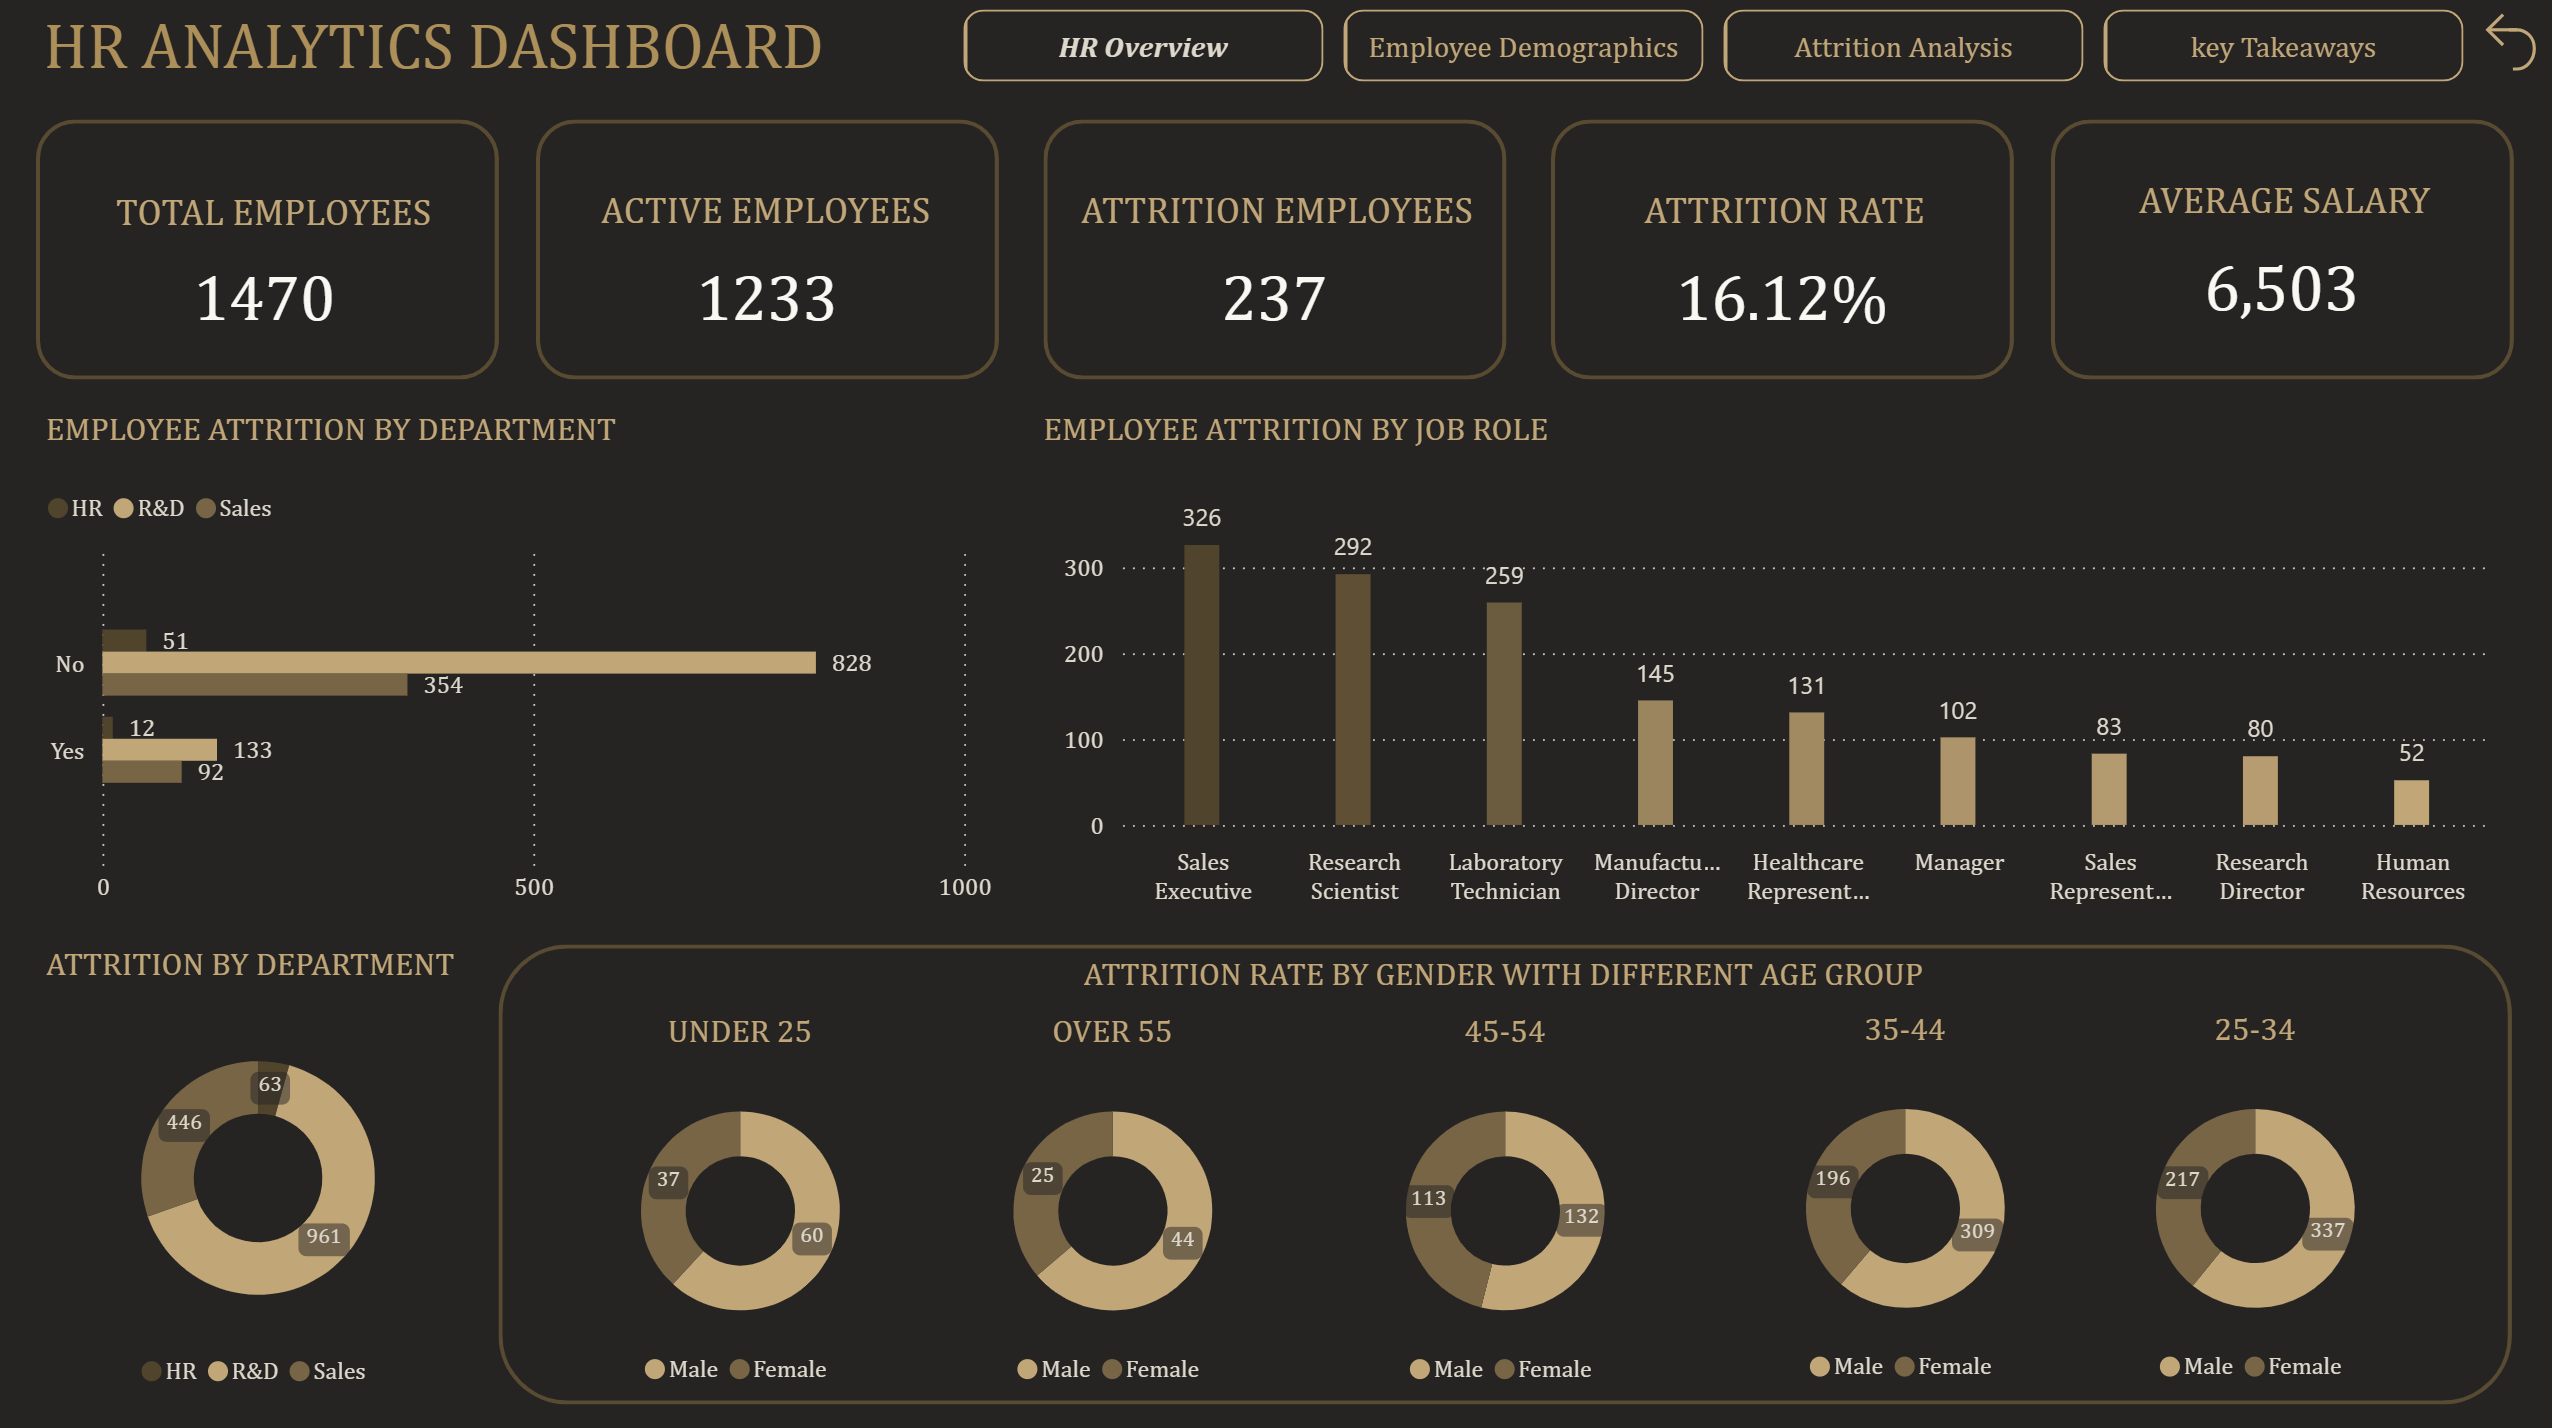

This screenshot's page, from the dashboard's own definition file:
{"tool":"powerbi","page":{"name":"HR Overview","canvas":[1280,720],"ordinal":0},"visuals":[{"type":"shape","box":[251.7,473.3,1006.7,230],"z":0},{"type":"textbox","box":[18.9,0,790,80],"z":1000},{"type":"actionButton","box":[1237.1,2.9,42.9,40],"z":2000},{"type":"shape","box":[20,61.4,231.4,130],"z":3000},{"type":"shape","box":[270,61.4,231.4,130],"z":4000},{"type":"shape","box":[524.3,61.4,231.4,130],"z":5000},{"type":"shape","box":[777.1,61.4,231.4,130],"z":6000},{"type":"shape","box":[1027.1,61.4,231.4,130],"z":7000},{"type":"cardVisual","fields":{"Data":["HR data.Avg Salary"]},"box":[1027.3,101.3,231,85],"z":7000,"group":"g5"},{"type":"cardVisual","fields":{"Data":["HR data.Total Employees"]},"box":[19.3,105.8,231,85],"z":7000,"group":"g1"},{"type":"cardVisual","fields":{"Data":["HR data.Active Employees"]},"box":[270,106,231,85],"z":7000,"group":"g2"},{"type":"cardVisual","fields":{"Data":["HR data.Attrition Employees"]},"box":[524,106,231,85],"z":7000,"group":"g3"},{"type":"cardVisual","fields":{"Data":["HR data.Attrition Rate"]},"box":[777.3,106,231,85],"z":7000,"group":"g4"},{"type":"textbox","box":[1040.6,67.3,206,72.7],"z":8000,"group":"g5"},{"type":"textbox","box":[297.3,72,206,72.7],"z":8000,"group":"g2"},{"type":"textbox","box":[537.3,72,206,72.7],"z":8000,"group":"g3"},{"type":"textbox","box":[790.6,72,206,72.7],"z":8000,"group":"g4"},{"type":"group","id":"g1","title":"Group 1","box":[19.3,73.3,231.3,118],"z":8000},{"type":"textbox","box":[55.3,73.3,171.4,80],"z":8000,"group":"g1"},{"type":"group","id":"g2","title":"Group 1","box":[270,72,233.3,119],"z":9000},{"type":"group","id":"g3","title":"Group 1","box":[524,72,231,119],"z":10000},{"type":"group","id":"g4","title":"Group 1","box":[777.3,72,231.3,119.3],"z":11000},{"type":"group","id":"g5","title":"Group 1","box":[1027.3,67.3,231.8,119.1],"z":12000},{"type":"clusteredBarChart","title":"EMPLOYEE ATTRITION BY DEPARTMENT","fields":{"Series":["HR data.Department"],"Y":["Sum(HR data.Employee Count)"],"Category":["HR data.Attrition"]},"box":[20,205.7,482.9,255.7],"z":13000},{"type":"columnChart","title":"EMPLOYEE ATTRITION BY JOB ROLE","fields":{"Y":["CountNonNull(HR data.Attrition)"],"Category":["HR data.Job Role"]},"box":[518.6,205.7,734.3,255.7],"z":14000},{"type":"donutChart","title":"ATTRITION BY DEPARTMENT","fields":{"Y":["CountNonNull(HR data.Attrition)"],"Series":["HR data.Department"]},"box":[20,473.3,221.7,231.7],"z":15000},{"type":"donutChart","title":"UNDER 25","fields":{"Category":["HR data.Gender"],"Series":["HR data.Age Group"],"Y":["CountNonNull(HR data.Attrition)"]},"box":[241.4,507.1,261.4,197.1],"z":16000},{"type":"donutChart","title":"OVER 55","fields":{"Category":["HR data.Gender"],"Series":["HR data.Age Group"],"Y":["CountNonNull(HR data.Attrition)"]},"box":[427.1,507.1,261.4,197.1],"z":17000},{"type":"donutChart","title":"45-54","fields":{"Category":["HR data.Gender"],"Series":["HR data.Age Group"],"Y":["CountNonNull(HR data.Attrition)"]},"box":[624.3,507.1,261.4,197.1],"z":18000},{"type":"donutChart","title":"35-44","fields":{"Category":["HR data.Gender"],"Series":["HR data.Age Group"],"Y":["CountNonNull(HR data.Attrition)"]},"box":[823.3,506.7,261.4,197.1],"z":19000},{"type":"donutChart","title":"25-34","fields":{"Category":["HR data.Gender"],"Series":["HR data.Age Group"],"Y":["CountNonNull(HR data.Attrition)"]},"box":[998.3,506.7,261.4,197.1],"z":20000},{"type":"textbox","box":[538.3,473.3,485,80],"z":21000},{"type":"pageNavigator","box":[483.3,6,753.6,36.9],"z":22000}]}

Visuals, with their boxes in screenshot pixels (x1, y1, x2, y2), scaled from the page's 1280x720 canvas onto the 2552x1428 screenshot:
shape: [left=502, top=939, right=2509, bottom=1395]
textbox: [left=38, top=0, right=1613, bottom=159]
actionButton: [left=2466, top=6, right=2551, bottom=85]
shape: [left=40, top=122, right=501, bottom=380]
shape: [left=538, top=122, right=1000, bottom=380]
shape: [left=1045, top=122, right=1507, bottom=380]
shape: [left=1549, top=122, right=2011, bottom=380]
shape: [left=2048, top=122, right=2509, bottom=380]
cardVisual - HR data.Avg Salary: [left=2048, top=201, right=2509, bottom=369]
cardVisual - HR data.Total Employees: [left=38, top=210, right=499, bottom=378]
cardVisual - HR data.Active Employees: [left=538, top=210, right=999, bottom=379]
cardVisual - HR data.Attrition Employees: [left=1045, top=210, right=1505, bottom=379]
cardVisual - HR data.Attrition Rate: [left=1550, top=210, right=2010, bottom=379]
textbox: [left=2075, top=133, right=2485, bottom=278]
textbox: [left=593, top=143, right=1003, bottom=287]
textbox: [left=1071, top=143, right=1482, bottom=287]
textbox: [left=1576, top=143, right=1987, bottom=287]
"Group 1" group: [left=38, top=145, right=500, bottom=379]
textbox: [left=110, top=145, right=452, bottom=304]
"Group 1" group: [left=538, top=143, right=1003, bottom=379]
"Group 1" group: [left=1045, top=143, right=1505, bottom=379]
"Group 1" group: [left=1550, top=143, right=2011, bottom=379]
"Group 1" group: [left=2048, top=133, right=2510, bottom=370]
"EMPLOYEE ATTRITION BY DEPARTMENT" clusteredBarChart: [left=40, top=408, right=1003, bottom=915]
"EMPLOYEE ATTRITION BY JOB ROLE" columnChart: [left=1034, top=408, right=2498, bottom=915]
"ATTRITION BY DEPARTMENT" donutChart: [left=40, top=939, right=482, bottom=1398]
"UNDER 25" donutChart: [left=481, top=1006, right=1002, bottom=1397]
"OVER 55" donutChart: [left=852, top=1006, right=1373, bottom=1397]
"45-54" donutChart: [left=1245, top=1006, right=1766, bottom=1397]
"35-44" donutChart: [left=1641, top=1005, right=2163, bottom=1396]
"25-34" donutChart: [left=1990, top=1005, right=2512, bottom=1396]
textbox: [left=1073, top=939, right=2040, bottom=1097]
pageNavigator: [left=964, top=12, right=2466, bottom=85]
